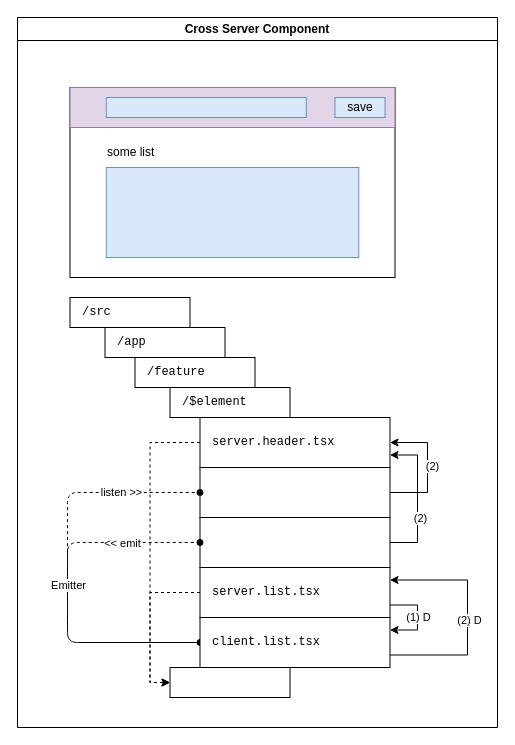
Image size: 515x745. Some labels were removed from this diagram. Each missing label, with the box of its shape:
client.header.save.tsx: (199, 466, 390, 518)
client.header.search.tsx: (199, 516, 390, 568)
list: (105, 166, 359, 258)
page.tsx: (169, 666, 290, 698)
search: (105, 96, 306, 118)
